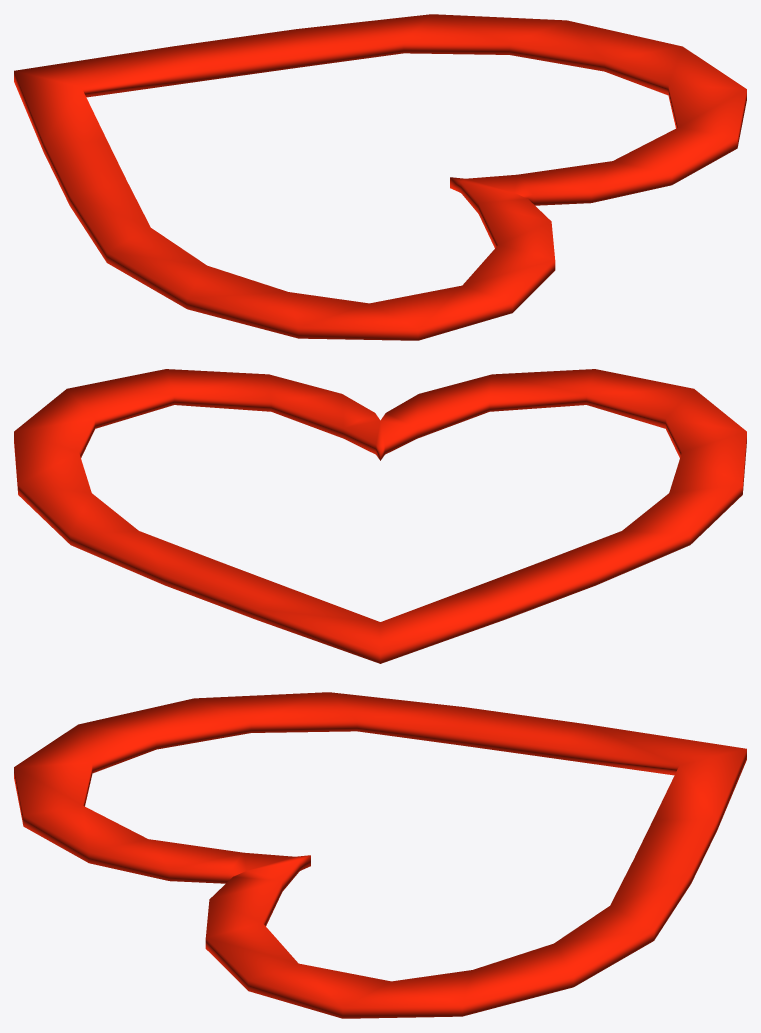
The model's file is heart_2.fbx.
The picture shows the model from 3 angles, top to bottom: view 1: azimuth 30°, elevation 25°; view 2: azimuth 150°, elevation 25°; view 3: azimuth 270°, elevation 25°; orthographic projection. The views are drawn at different scales.
Parts seen in each view (by area): view 1: heart_2; view 2: heart_2; view 3: heart_2.
Boxes of the visible parts, x1,y1,x2,y2 form: heart_2: [14, 14, 746, 340]; heart_2: [14, 369, 746, 663]; heart_2: [14, 692, 746, 1018].
Bounding box in the file's own units: 61.85 × 1 × 60.69.
